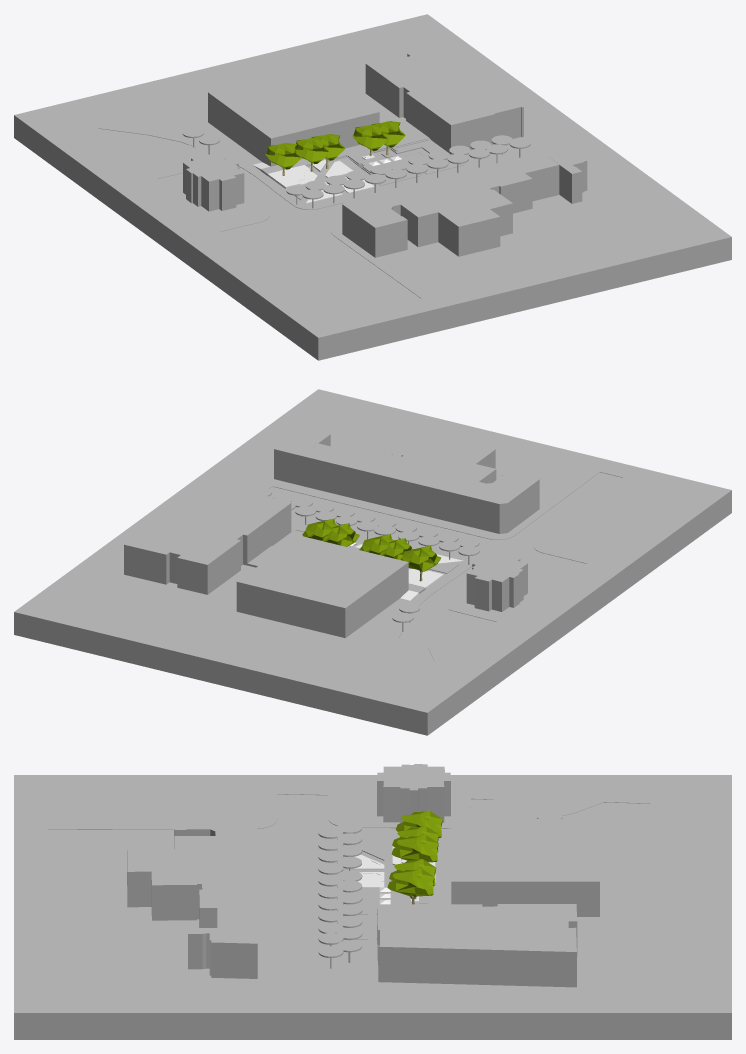
Rendered from sowa.glb.
3 renders of one model, top to bottom at view 1: azimuth 30°, elevation 25°; view 2: azimuth 150°, elevation 25°; view 3: azimuth 270°, elevation 25°, orthographic. The views are drawn at different scales.
Parts seen in each view (by area): view 1: ALLES.8115, ALLES.8021, ALLES.2189, ALLES.2155, ALLES.8023, ALLES.2216, ALLES.1882, ALLES.2248, ALLES.1913, ALLES.1977, ALLES.2171, ALLES.1885 (+50 smaller); view 2: ALLES.8115, ALLES.2189, ALLES.8036, ALLES.2155, ALLES.8023, ALLES.2216, ALLES.2248, ALLES.1882, ALLES.2171, ALLES.1885, ALLES.7962, ALLES.7853 (+51 smaller); view 3: ALLES.8058, ALLES.8115, ALLES.2189, ALLES.8040, ALLES.1977, ALLES.1882, ALLES.2248, ALLES.2155, ALLES.1913, ALLES.8028, ALLES.4790, ALLES.2171 (+76 smaller).
Part boxes in pixels (<box>): ALLES.8115: <box>208,66,379,138</box>; ALLES.8021: <box>320,260,730,360</box>; ALLES.2189: <box>323,14,487,70</box>; ALLES.2155: <box>245,237,380,305</box>; ALLES.8023: <box>16,139,316,359</box>; ALLES.2216: <box>75,150,201,224</box>; ALLES.1882: <box>584,139,699,213</box>; ALLES.2248: <box>596,214,731,262</box>; ALLES.1913: <box>572,201,700,239</box>; ALLES.1977: <box>474,58,577,136</box>; ALLES.2171: <box>14,106,111,159</box>; ALLES.1885: <box>52,90,147,134</box>; ALLES.8115: <box>237,535,408,608</box>; ALLES.2189: <box>14,567,178,637</box>; ALLES.8036: <box>15,635,425,735</box>; ALLES.2155: <box>544,490,662,562</box>; ALLES.8023: <box>429,514,729,734</box>; ALLES.2216: <box>451,593,577,668</box>; ALLES.2248: <box>287,389,422,437</box>; ALLES.1882: <box>185,412,291,486</box>; ALLES.2171: <box>390,659,487,712</box>; ALLES.1885: <box>323,654,412,703</box>; ALLES.7962: <box>170,486,242,552</box>; ALLES.7853: <box>302,451,495,480</box>; ALLES.8058: <box>15,1013,730,1039</box>; ALLES.8115: <box>451,819,599,881</box>; ALLES.2189: <box>588,952,731,1012</box>; ALLES.8040: <box>378,946,576,987</box>; ALLES.1977: <box>377,982,588,1012</box>; ALLES.1882: <box>88,978,329,1012</box>; ALLES.2248: <box>14,952,87,1012</box>; ALLES.2155: <box>87,796,277,828</box>; ALLES.1913: <box>87,952,187,1012</box>; ALLES.8028: <box>14,1013,326,1039</box>; ALLES.4790: <box>275,851,326,935</box>; ALLES.2171: <box>588,775,731,796</box>.
Size of what is drawn, in the model's own units: 1800 by 239 by 2295.
